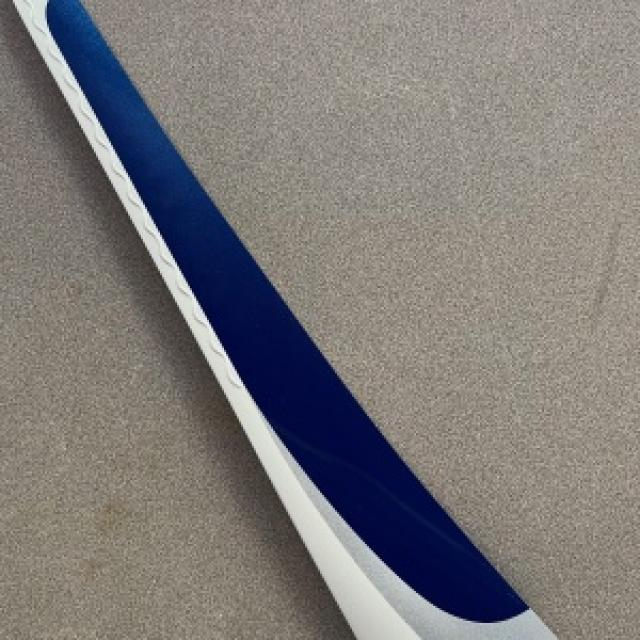healthy: (0, 0, 352, 638)
